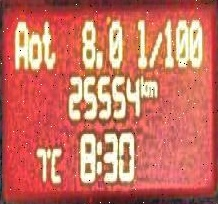-: (95, 49, 102, 68)
0: (118, 129, 135, 182), (187, 17, 202, 69), (173, 16, 188, 67), (107, 16, 122, 67)
1: (163, 16, 174, 67)
2: (67, 73, 82, 119)
3: (103, 129, 118, 182)
4: (125, 74, 140, 118)
5: (82, 72, 97, 121), (111, 73, 126, 119), (97, 73, 110, 119)
7: (35, 145, 47, 182)
8: (78, 131, 95, 183), (80, 18, 95, 67)
X: (13, 18, 28, 70), (41, 18, 55, 72), (135, 17, 146, 69), (147, 29, 162, 67), (28, 31, 41, 70), (49, 145, 62, 182), (95, 137, 102, 173), (147, 77, 158, 98), (140, 73, 146, 96)
